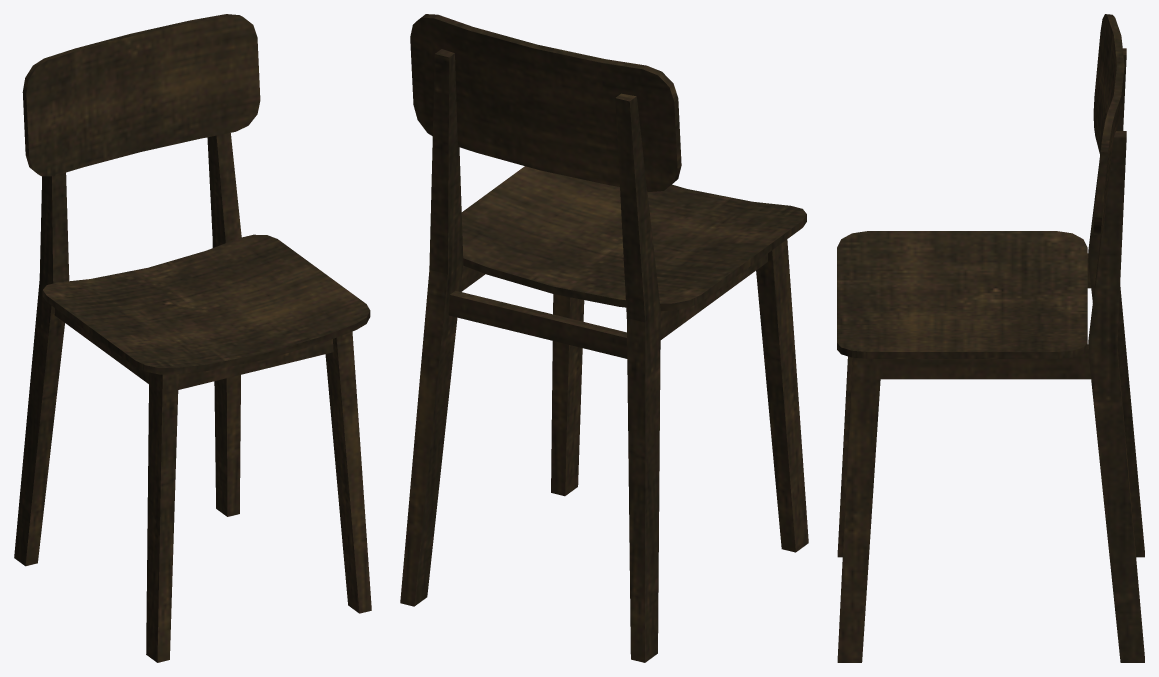
Rendered from chair_mp_3_3.obj.
3 views of the same model, side by side, from view 1: azimuth 30°, elevation 25°; view 2: azimuth 150°, elevation 25°; view 3: azimuth 270°, elevation 25° (orthographic). The views are drawn at different scales.
Parts seen in each view (by area): view 1: chair_mp_3_3; view 2: chair_mp_3_3; view 3: chair_mp_3_3.
Part boxes in pixels (x1=…): chair_mp_3_3: x1=14, y1=14, x2=371, y2=662; chair_mp_3_3: x1=400, y1=14, x2=808, y2=662; chair_mp_3_3: x1=837, y1=14, x2=1144, y2=662.
Size of the model in its own units: 0.4763 by 0.9967 by 0.5126.
